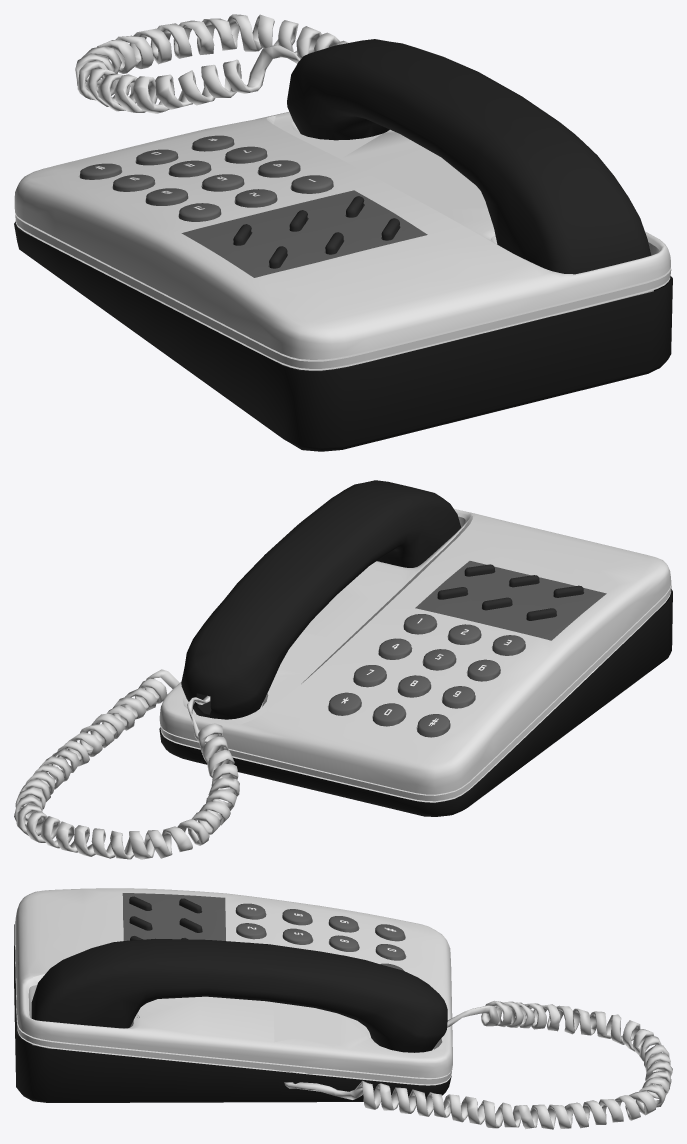
3 views of the same model, one above another, from view 1: azimuth 30°, elevation 25°; view 2: azimuth 150°, elevation 25°; view 3: azimuth 270°, elevation 25° (orthographic). The views are drawn at different scales.
Parts seen in each view (by area): view 1: Telephone_Material #57_0; view 2: Telephone_Material #57_0; view 3: Telephone_Material #57_0.
Part boxes in pixels (left/top/right/bottom): Telephone_Material #57_0: left=14, top=14, right=672, bottom=451; Telephone_Material #57_0: left=14, top=480, right=672, bottom=859; Telephone_Material #57_0: left=14, top=888, right=672, bottom=1129.
Size of the model in its own units: 4.82 by 1.96 by 8.41.
Materials: 1 (1 with a texture image).
